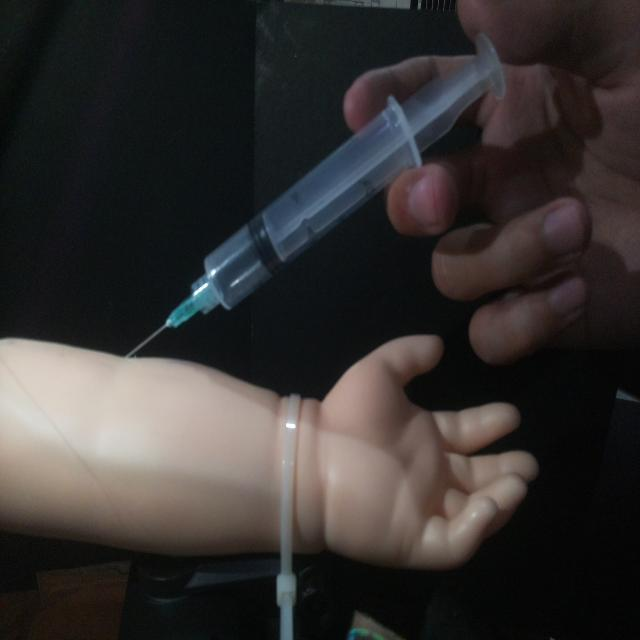30deg: (119, 29, 509, 360)
